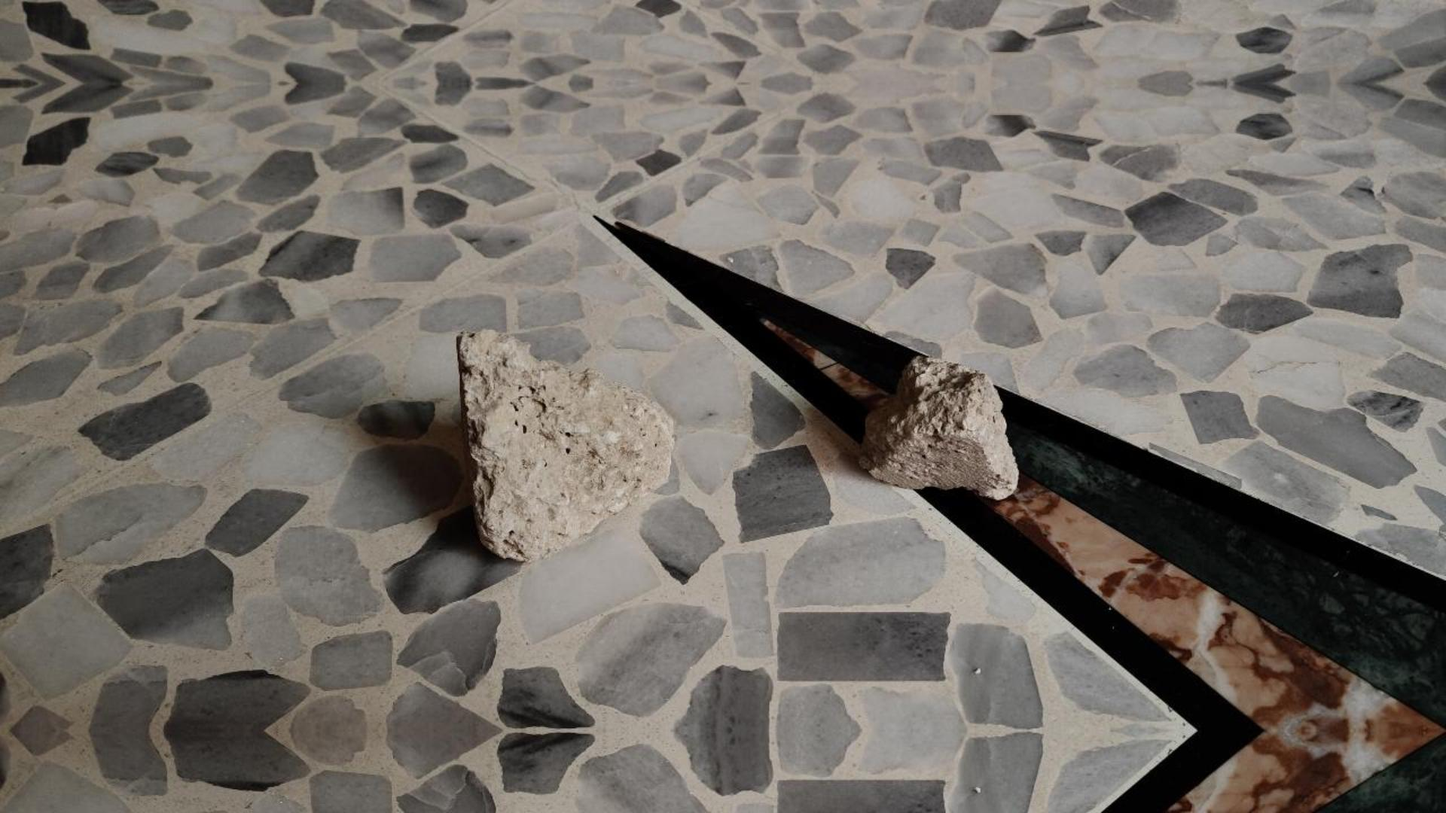rock: (456, 330, 672, 561), (860, 357, 1018, 498)
